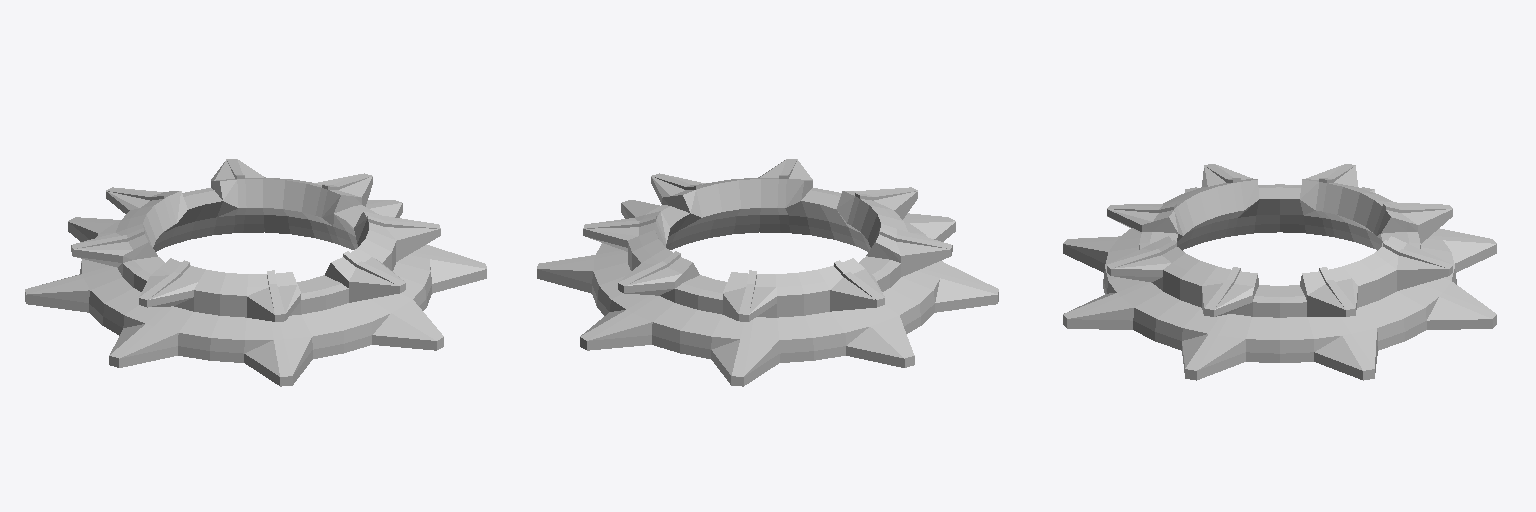
The model's file is ring.obj.
3 views of the same model, side by side, from view 1: azimuth 30°, elevation 25°; view 2: azimuth 150°, elevation 25°; view 3: azimuth 270°, elevation 25° (orthographic).
Parts seen in each view (by area): view 1: pTorus1; view 2: pTorus1; view 3: pTorus1.
Part boxes in pixels (left/top/right/bottom): pTorus1: left=25, top=159, right=486, bottom=386; pTorus1: left=537, top=159, right=998, bottom=386; pTorus1: left=1063, top=164, right=1496, bottom=380.
Bounding box in the file's own units: 3.97 × 0.6604 × 3.97.